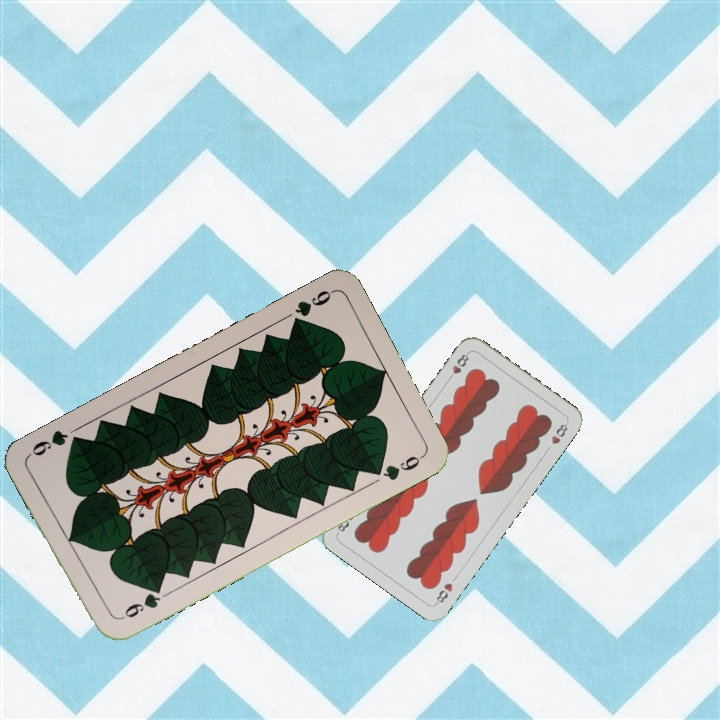G9: (287, 286, 336, 330), (114, 582, 165, 623)
H8: (444, 348, 472, 384), (431, 579, 455, 607)
